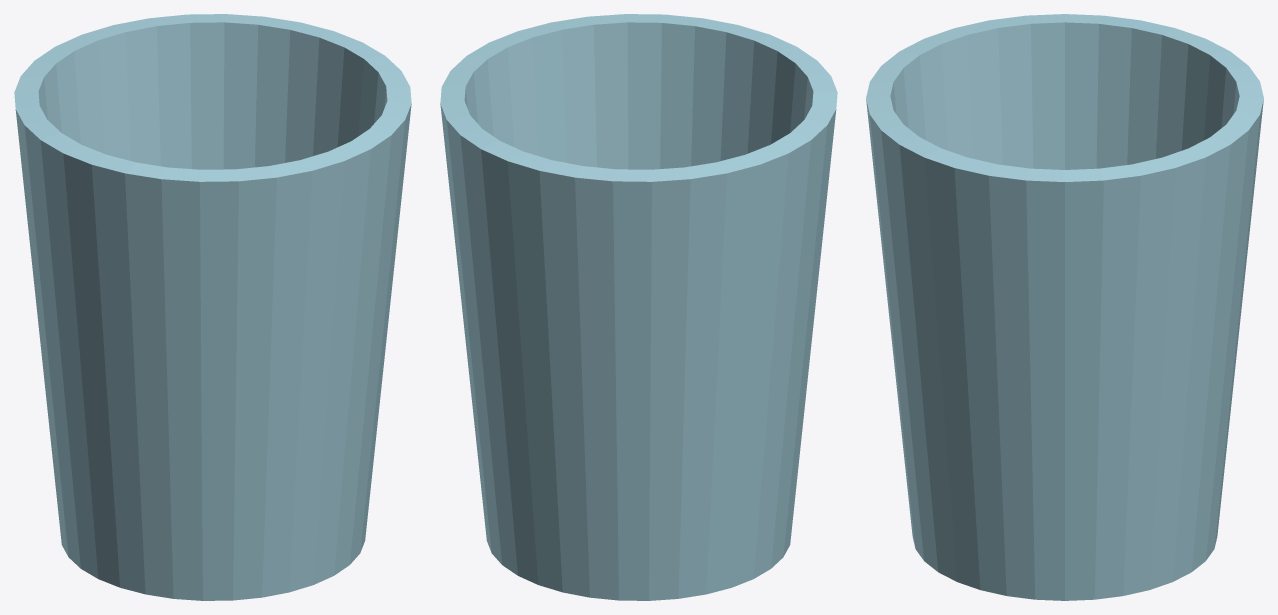
File: cup.fbx
3 renders of one model, left to right at view 1: azimuth 30°, elevation 25°; view 2: azimuth 150°, elevation 25°; view 3: azimuth 270°, elevation 25°, orthographic.
Visible parts, largest first — view 1: Cup; view 2: Cup; view 3: Cup.
Boxes of the visible parts, box(x1,y1,x2,y2) form: Cup: box(14, 14, 411, 600); Cup: box(440, 14, 837, 600); Cup: box(866, 14, 1263, 600).
Bounding box in the file's own units: 114 × 140 × 114.
